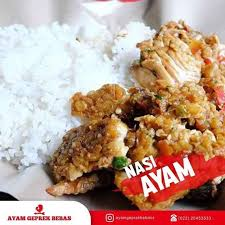ayam_geprek: (97, 15, 224, 201)
